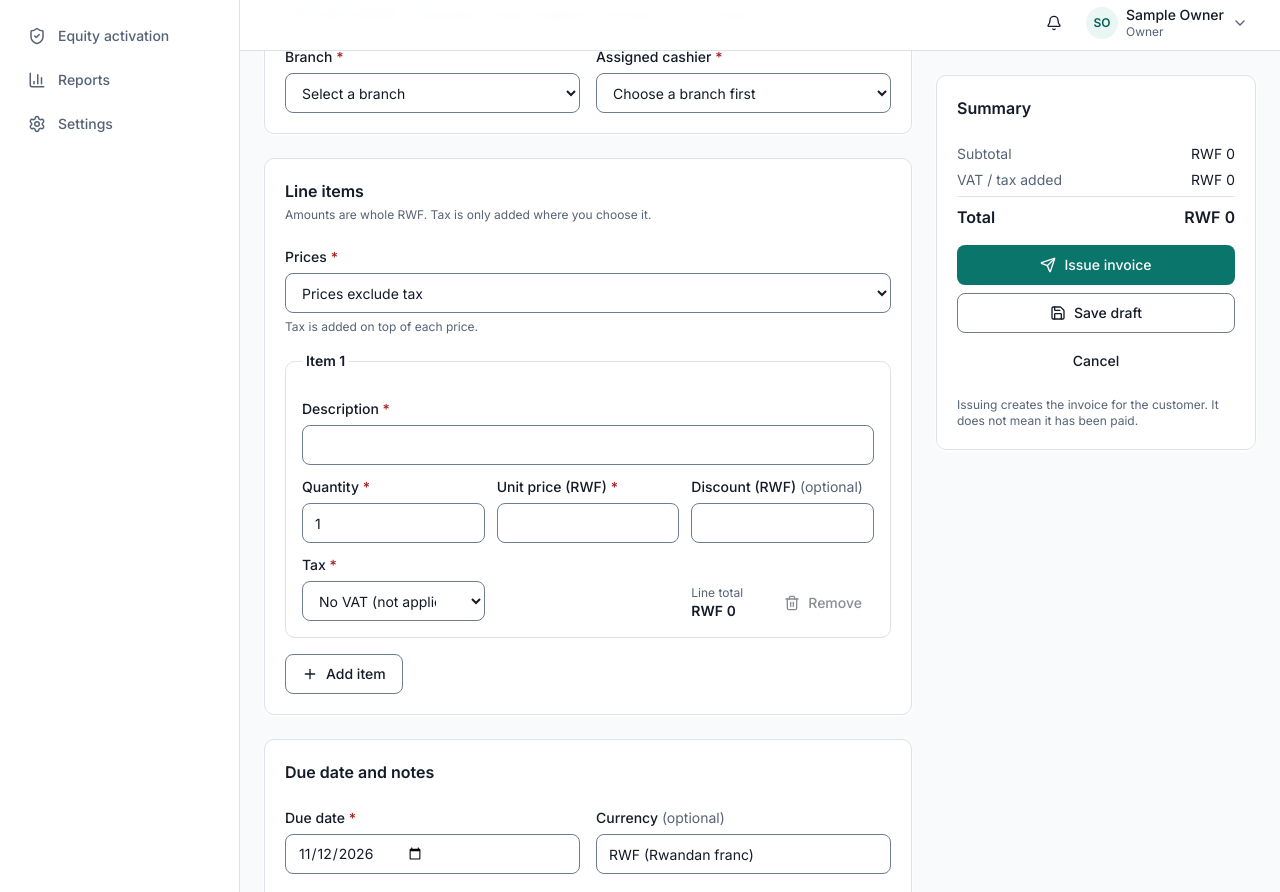
line items and live totals › adds up exclusive VAT as you type, and nothing is taxed by default
(page scrolled)
Expected: the dropdown labelled "Tax *" shows "No VAT (not applicable)", [302,581,485,621]
Type "Tea" into the field labelled "Description *" at (588, 445), box [302,425,874,465]
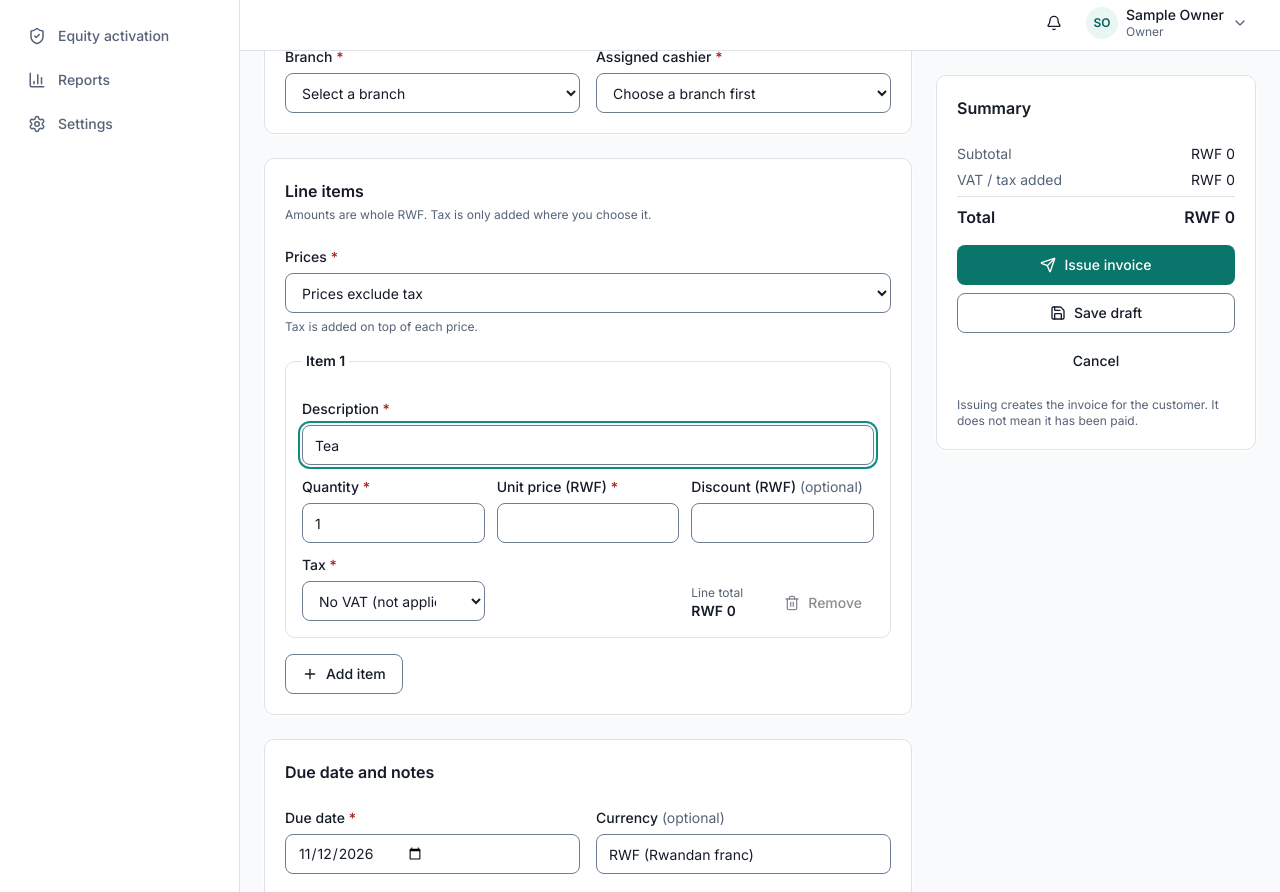
Replace the text in the field labelled "Quantity *" with "3" at (393, 523), box [302,503,485,543]
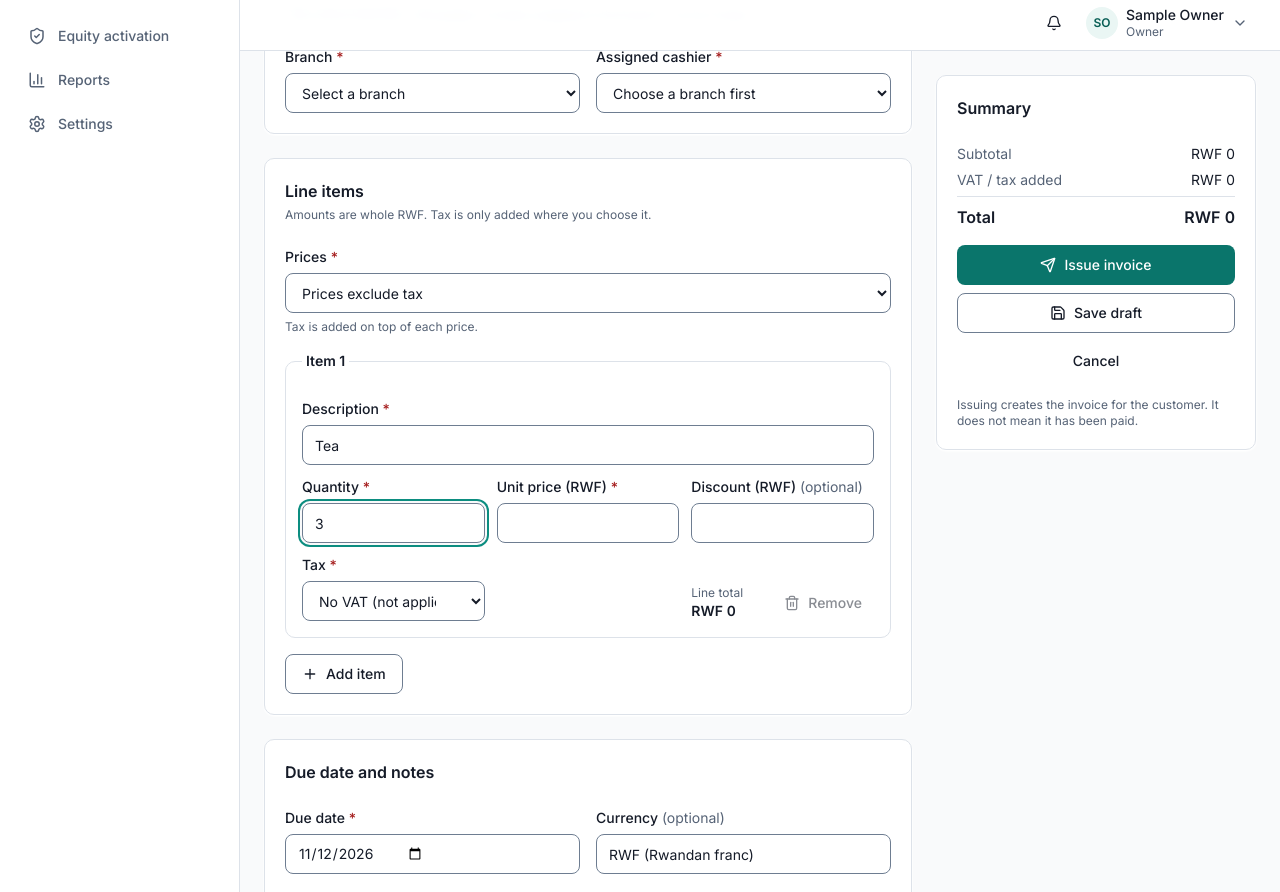
Type "1000" into the field labelled "Unit price (RWF) *" at (588, 523), box [497,503,679,543]
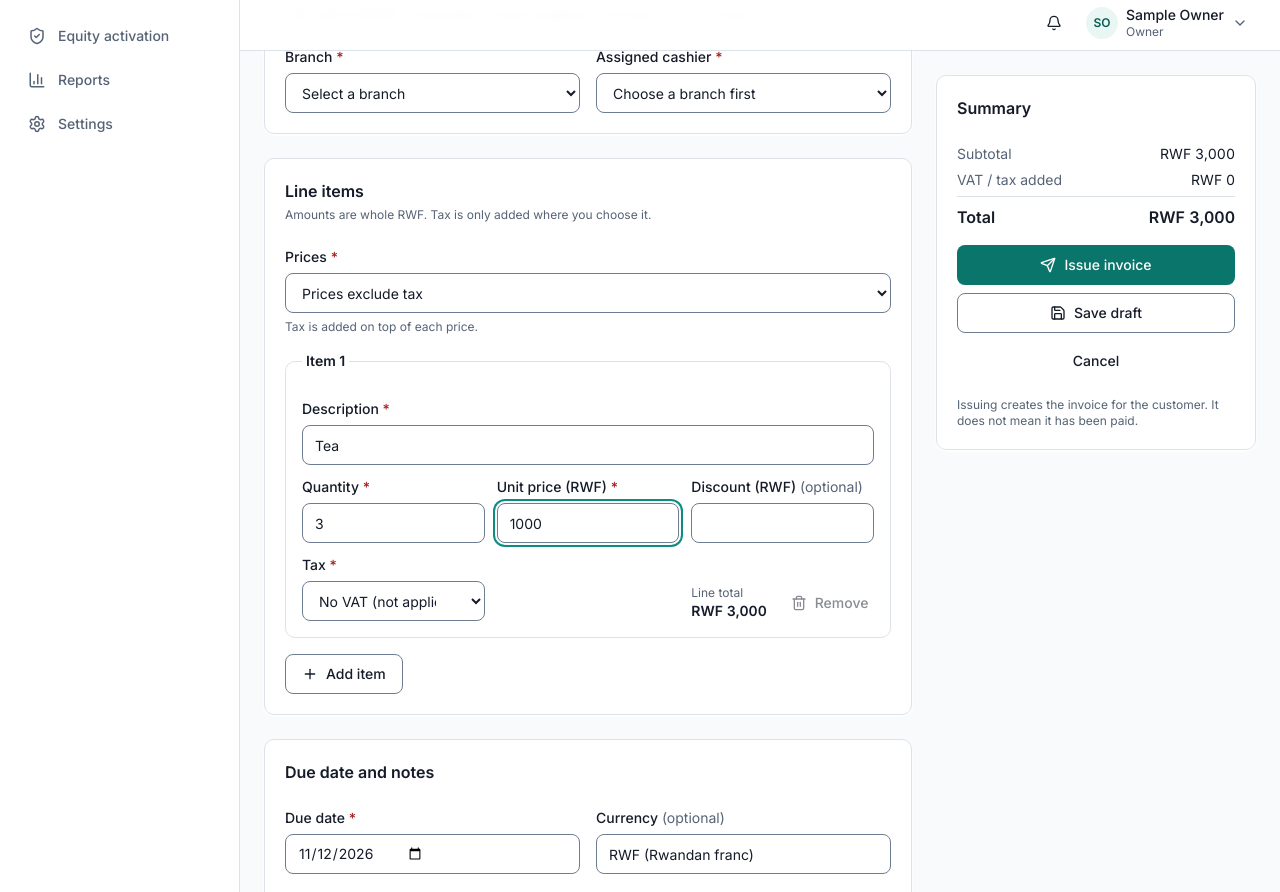
Select "Standard VAT 18%" in the dropdown labelled "Tax *" at (393, 601), box [302,581,485,621]
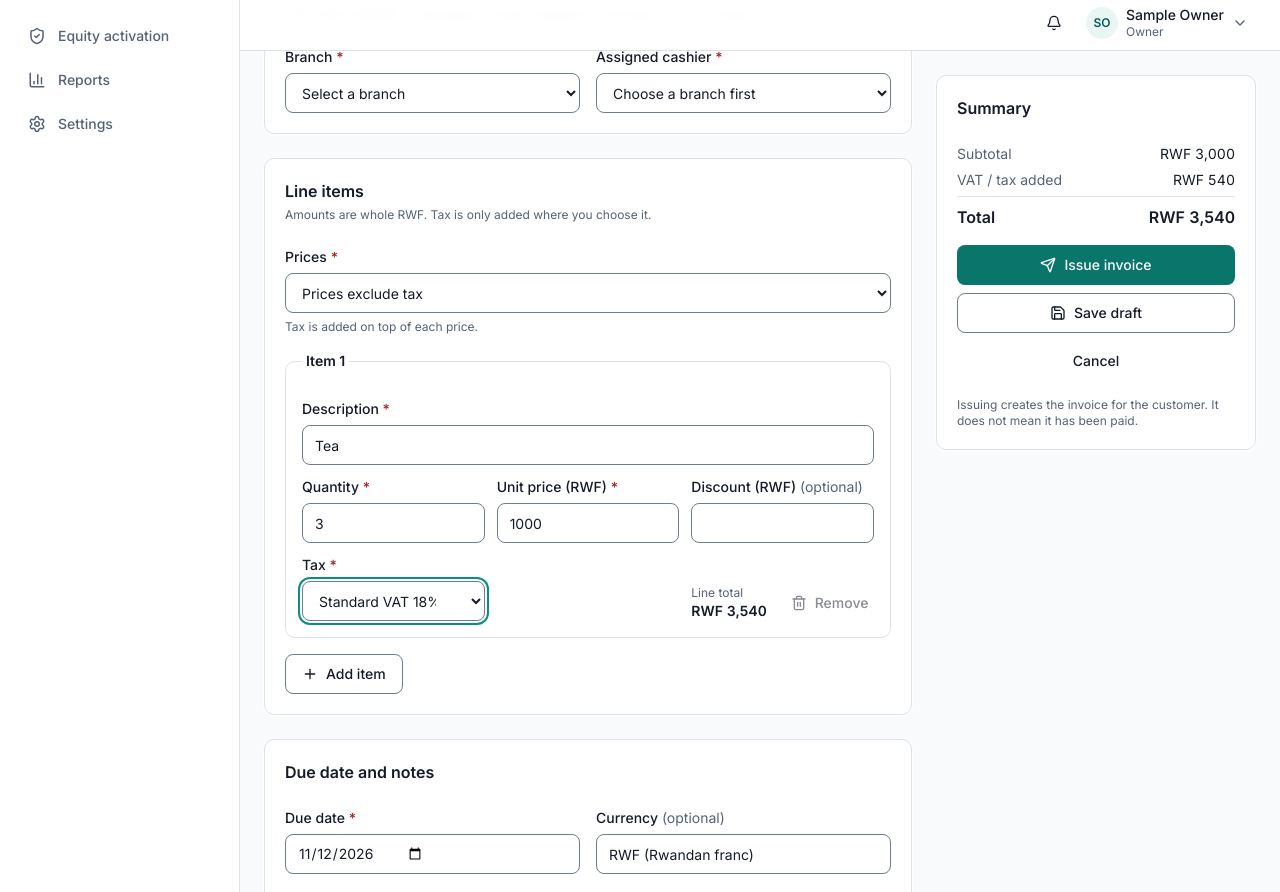
Now the text "RWF 3,540" below "Line total" is shown, box [691,602,767,619]
